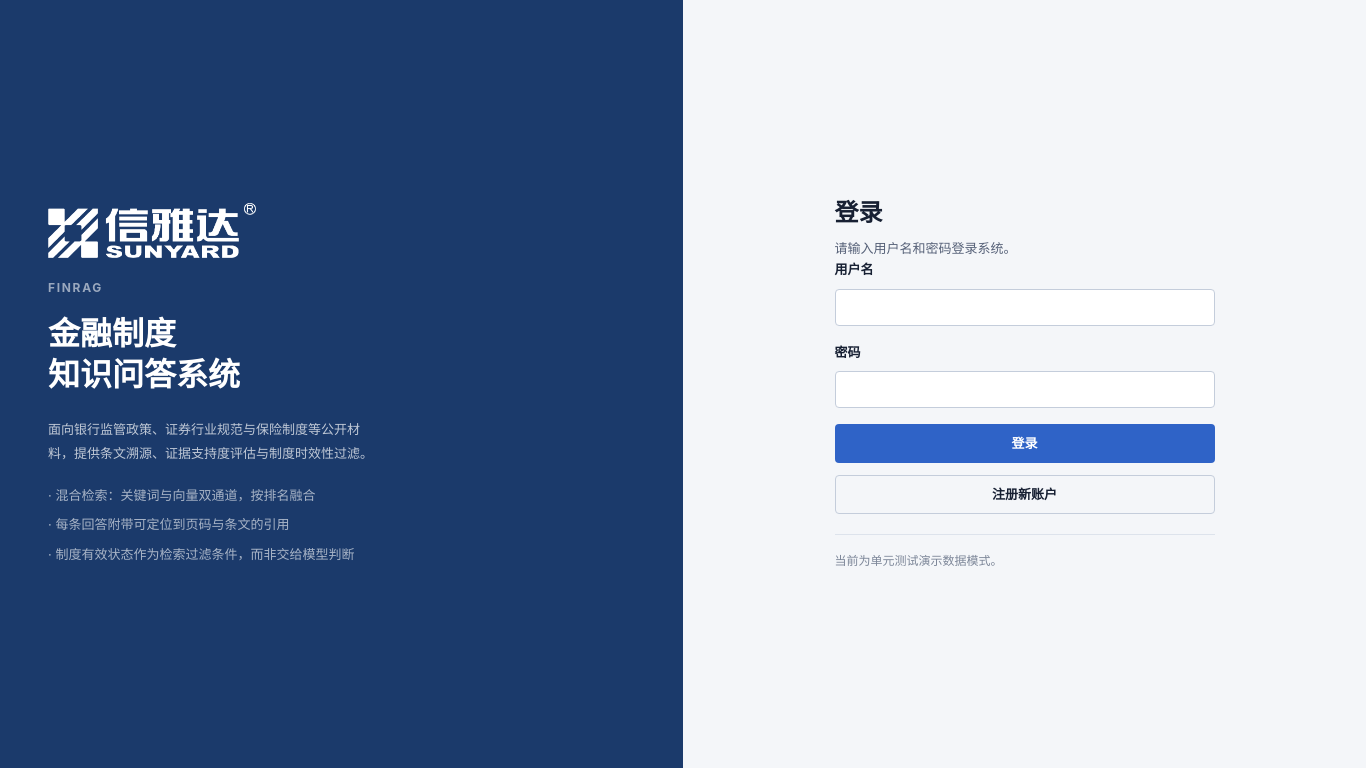
制度问答页 › 初始状态提示还没有提问
Type "user" into the field labelled "用户名" at (1024, 307), box [834, 289, 1214, 326]
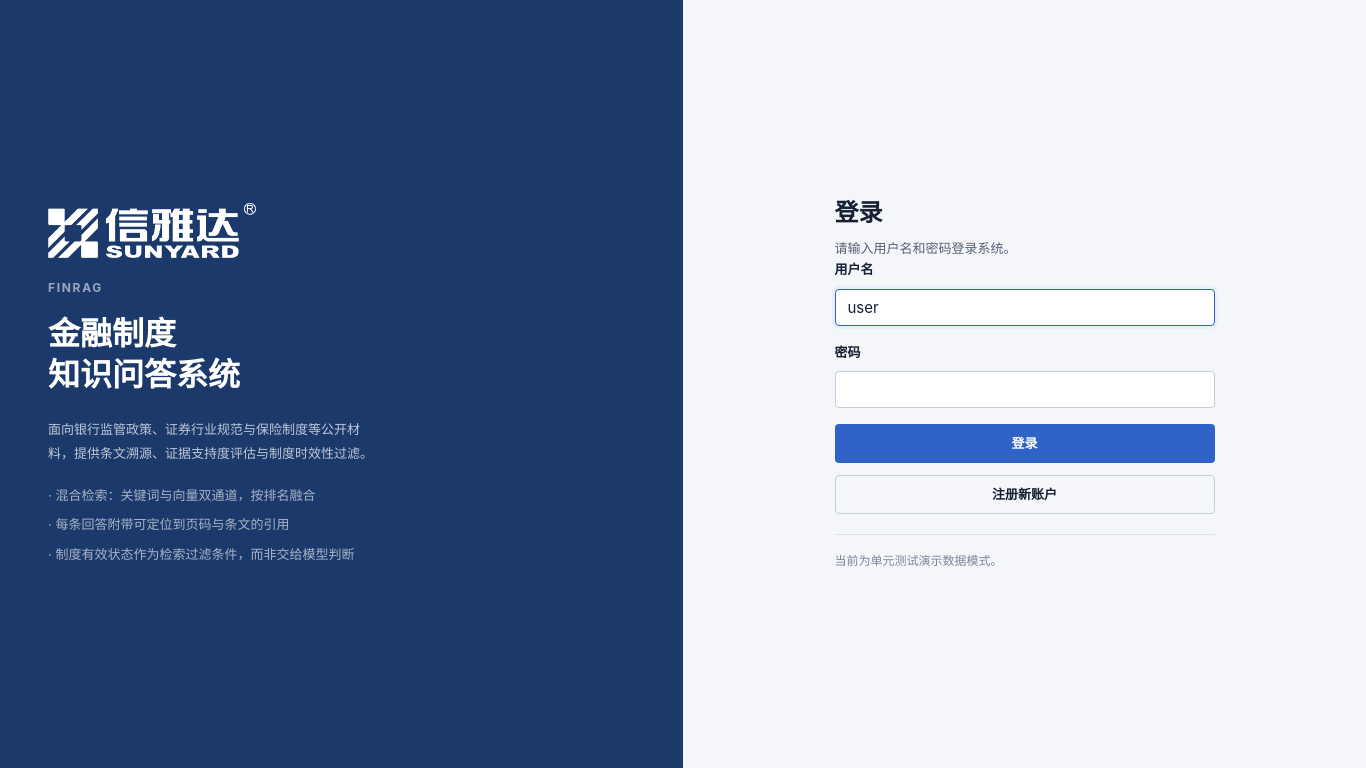
Type "finrag2026" into the password field labelled "密码" at (1024, 390), box [834, 371, 1214, 408]
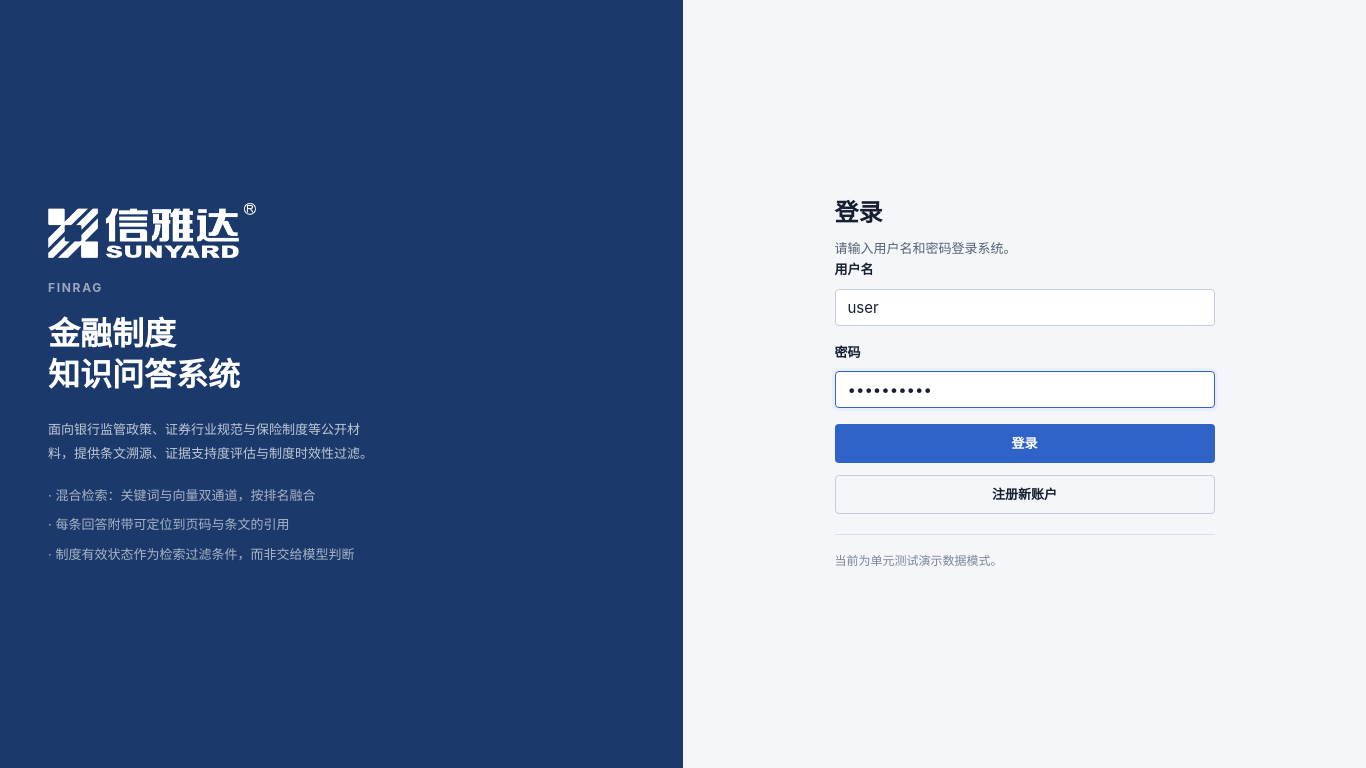
Click the button "登录" at (1024, 444), box [834, 424, 1214, 463]
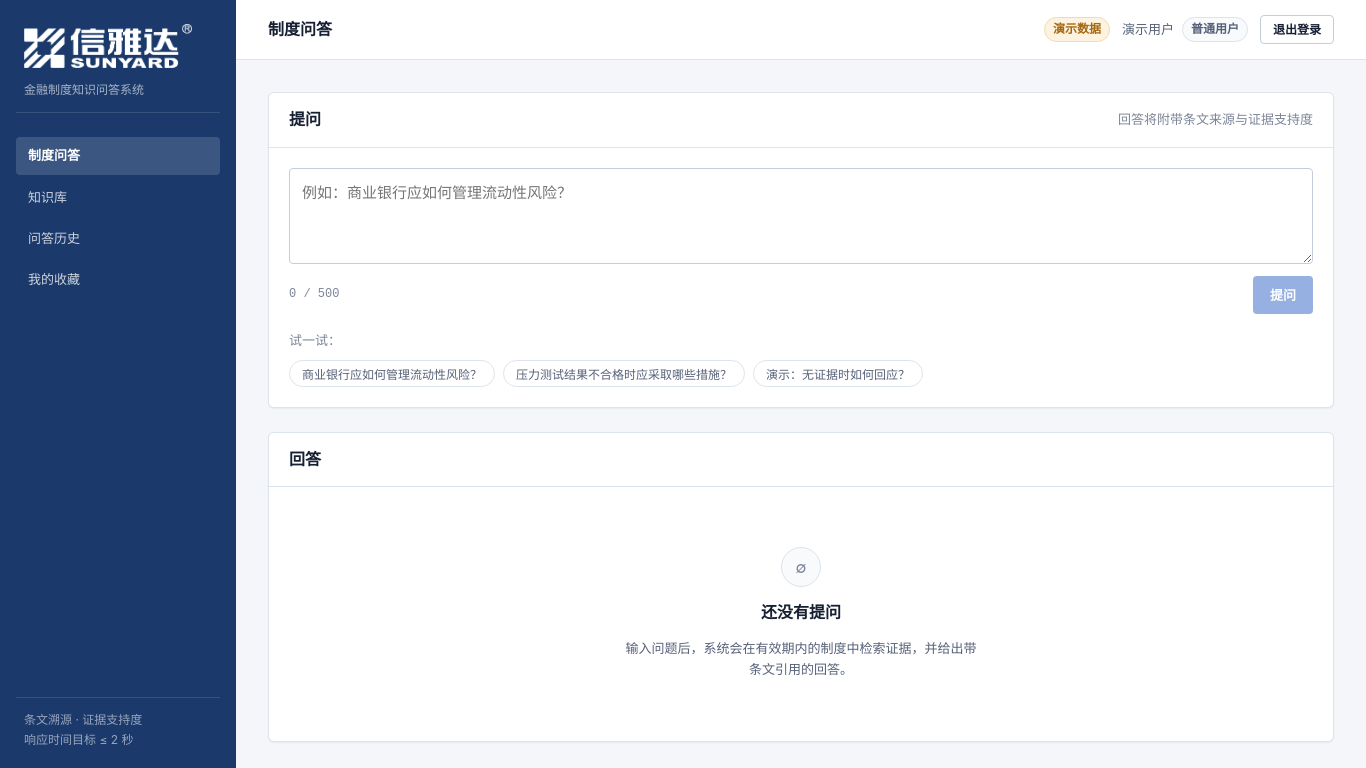
Now the heading "提问" is shown, box [289, 109, 321, 131]
Now the text "还没有提问" is shown, box [761, 599, 841, 626]
